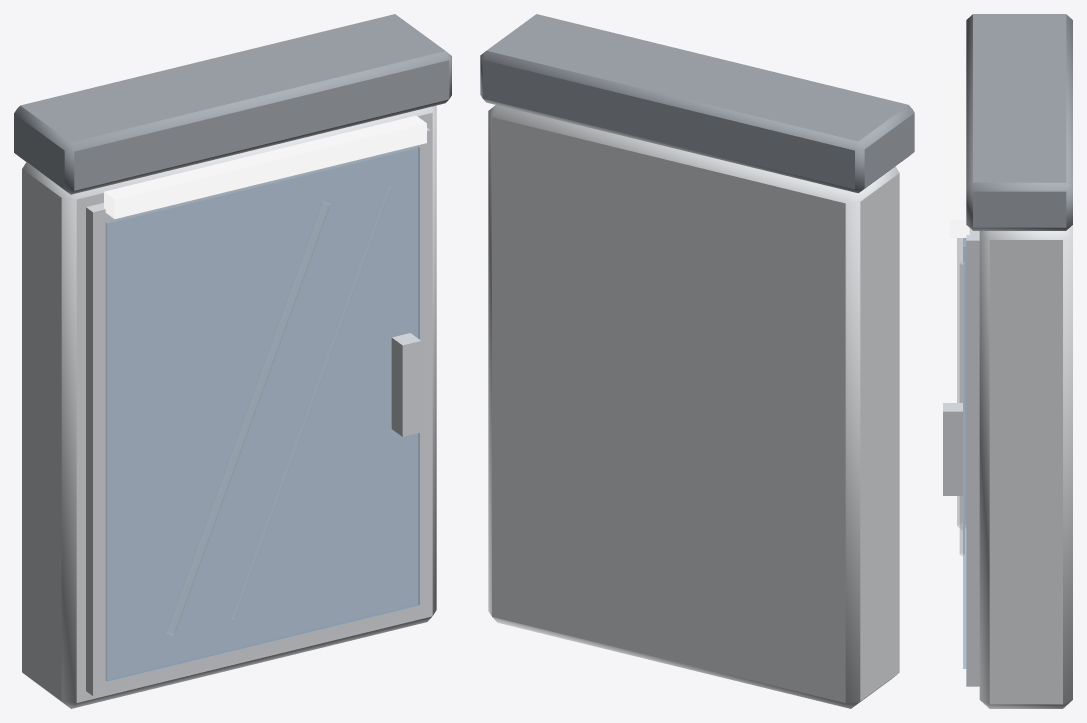
File: locker_mirror_cabinet.glb
The picture shows the model from 3 angles, left to right: view 1: azimuth 30°, elevation 25°; view 2: azimuth 150°, elevation 25°; view 3: azimuth 270°, elevation 25°; orthographic projection. The views are drawn at different scales.
Parts seen in each view (by area): view 1: locker_mirror_cabinet; view 2: locker_mirror_cabinet; view 3: locker_mirror_cabinet.
Boxes of the visible parts, x1,y1,x2,y2 form: locker_mirror_cabinet: [14, 14, 451, 708]; locker_mirror_cabinet: [480, 14, 914, 708]; locker_mirror_cabinet: [943, 14, 1072, 708].
Bounding box in the file's own units: 0.62 × 0.88 × 0.195.
